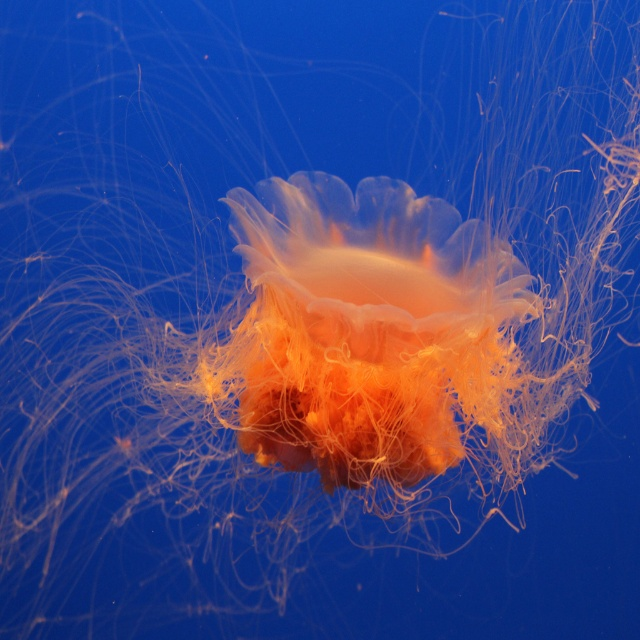Jellyfish: (0, 3, 640, 638)
